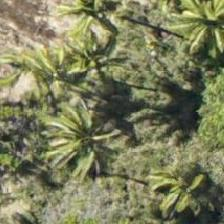coconut_tree: (48, 94, 138, 184), (0, 18, 83, 108), (142, 143, 223, 223), (41, 0, 131, 52), (167, 0, 223, 64)
